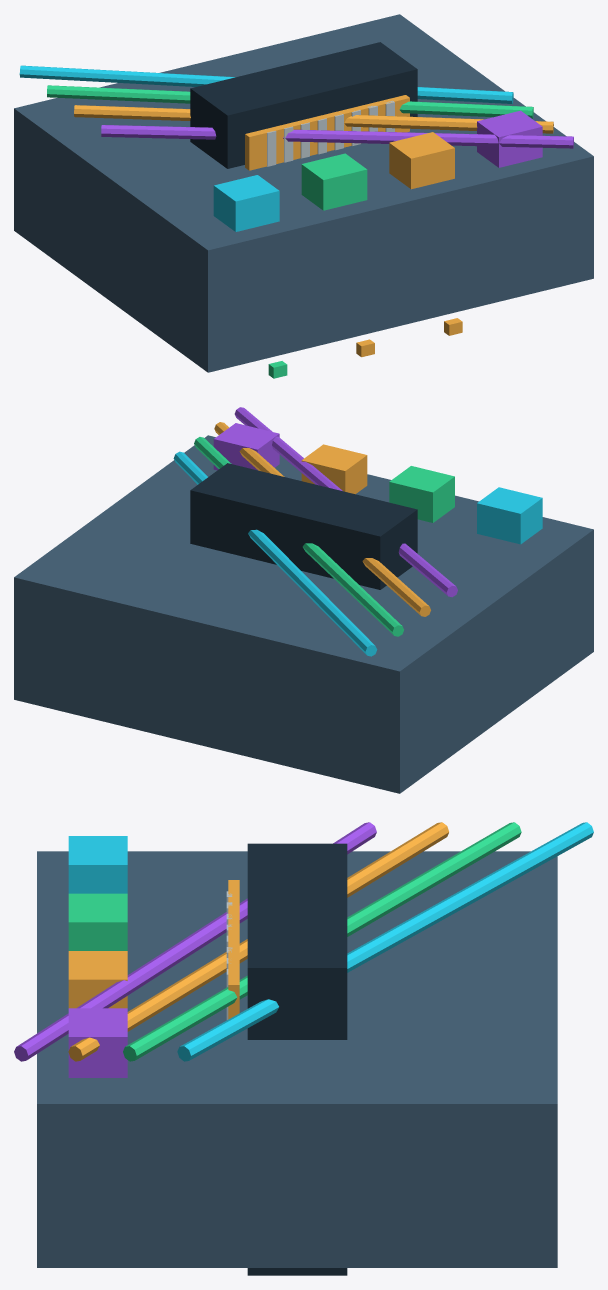
The model's file is 13_L80_OpticalSafetyShutter.fbx.
3 views of the same model, one above another, from view 1: azimuth 30°, elevation 25°; view 2: azimuth 150°, elevation 25°; view 3: azimuth 270°, elevation 25° (orthographic). The views are drawn at different scales.
Parts seen in each view (by area): view 1: OpticalSafetyShutter, OpticalSafetyShutter_Part_0009, OpticalSafetyShutter_Part_0010; view 2: OpticalSafetyShutter, OpticalSafetyShutter_Part_0009; view 3: OpticalSafetyShutter, OpticalSafetyShutter_Part_0009, OpticalSafetyShutter_Part_0010.
Boxes of the visible parts, x1=… form: OpticalSafetyShutter: x1=14, y1=14, x2=593, y2=378; OpticalSafetyShutter_Part_0009: x1=190, y1=42, x2=417, y2=168; OpticalSafetyShutter_Part_0010: x1=245, y1=95, x2=409, y2=170; OpticalSafetyShutter: x1=14, y1=407, x2=593, y2=793; OpticalSafetyShutter_Part_0009: x1=190, y1=463, x2=417, y2=589; OpticalSafetyShutter: x1=14, y1=822, x2=593, y2=1267; OpticalSafetyShutter_Part_0009: x1=247, y1=843, x2=347, y2=1275; OpticalSafetyShutter_Part_0010: x1=228, y1=880, x2=239, y2=1019.
Size of the model in its own units: 132 by 75 by 128.
